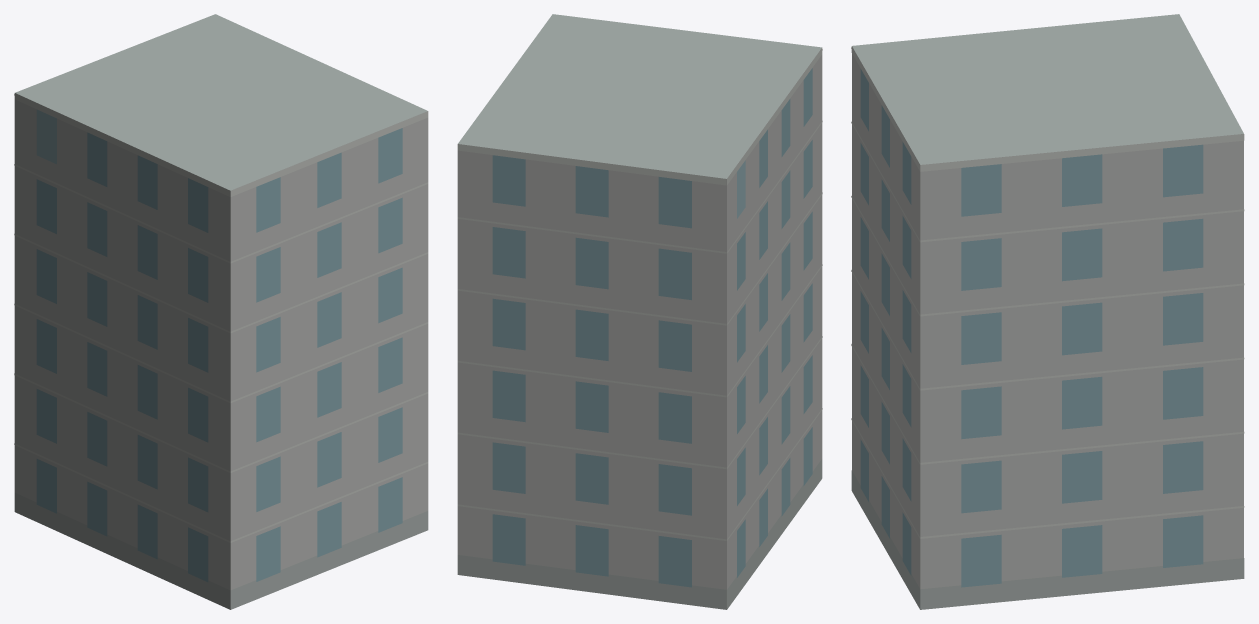
File: survey-upis-32809436.glb
The picture shows the model from 3 angles, left to right: view 1: azimuth 30°, elevation 25°; view 2: azimuth 150°, elevation 25°; view 3: azimuth 270°, elevation 25°; orthographic projection. The views are drawn at different scales.
Visible parts, largest first — view 1: survey-upis-32809436.tmp; view 2: survey-upis-32809436.tmp; view 3: survey-upis-32809436.tmp.
Part boxes in pixels (left/top/right/bottom): survey-upis-32809436.tmp: left=14, top=14, right=428, bottom=609; survey-upis-32809436.tmp: left=457, top=14, right=822, bottom=609; survey-upis-32809436.tmp: left=851, top=14, right=1244, bottom=609.
Bounding box in the file's own units: 11.52 × 15.8 × 12.65.
